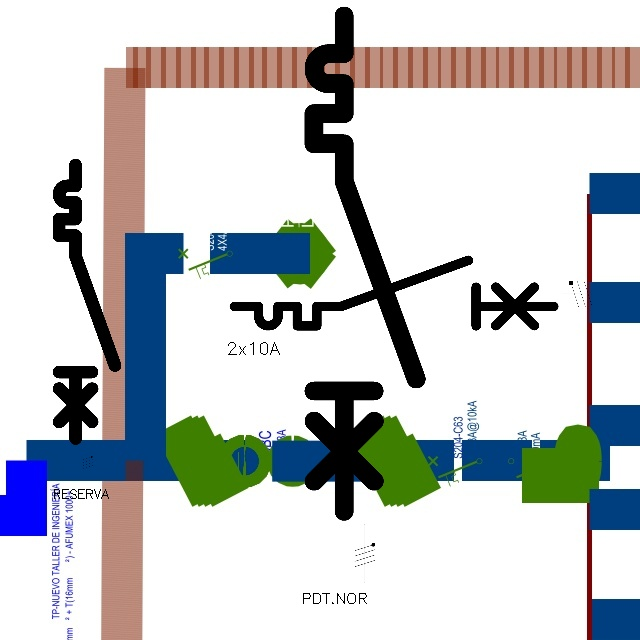interruptor_termomagnetico: (301, 3, 428, 524), (226, 252, 562, 334), (52, 158, 122, 445)
